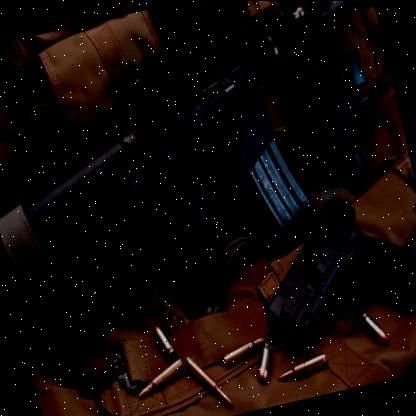rifle: (0, 0, 413, 357), (241, 173, 416, 366)
